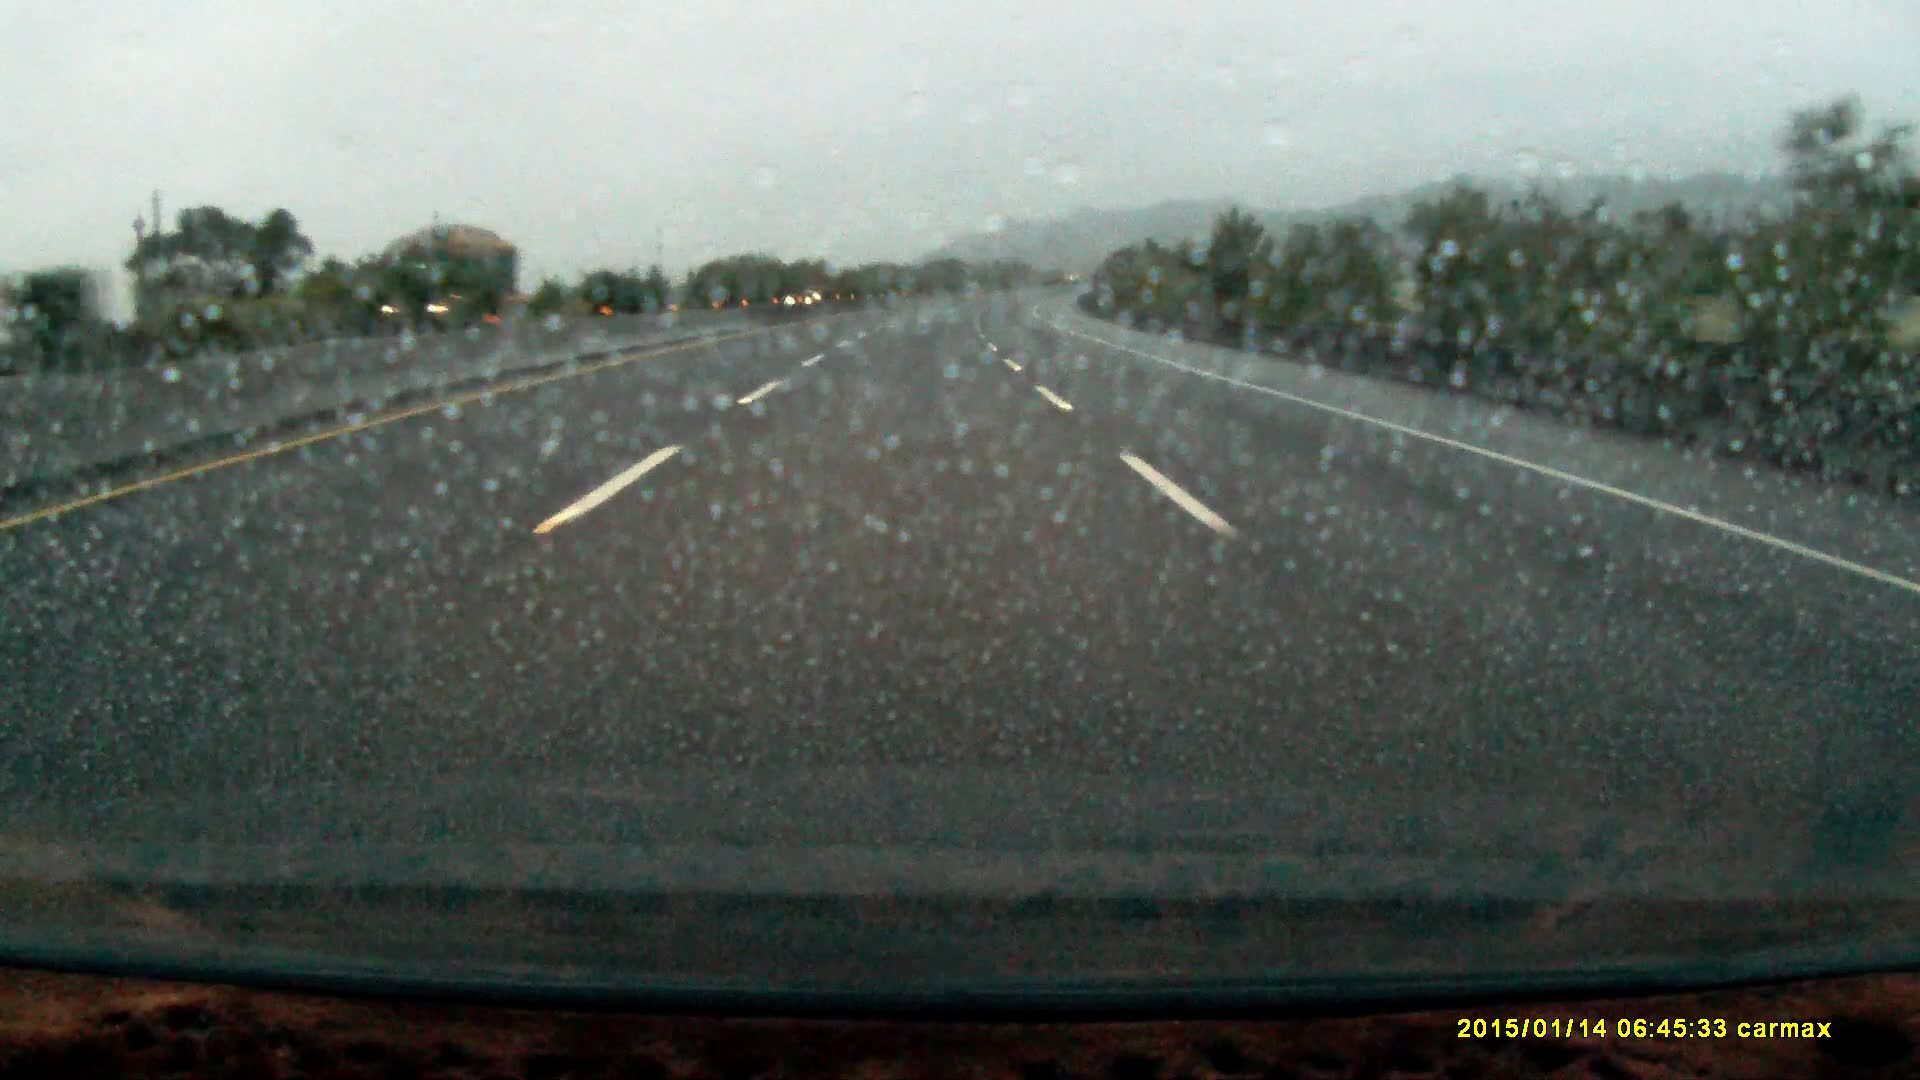vehicle: (393, 222, 522, 327)
